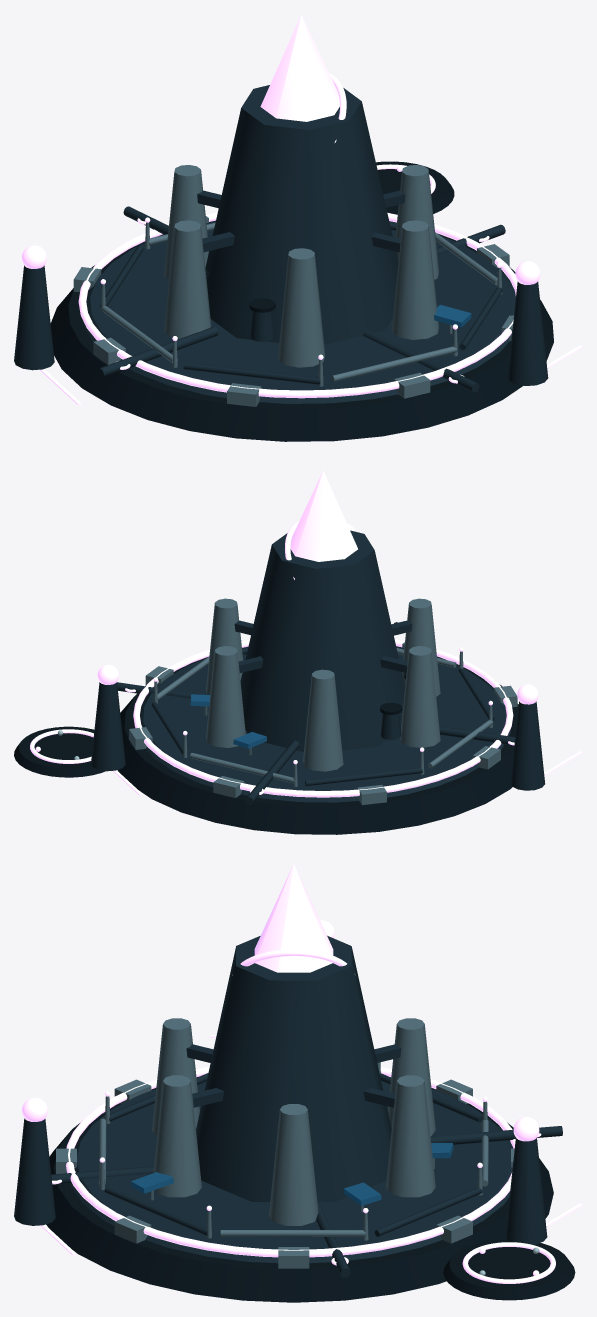
Rendered from naniteFactory-stage2.glb.
3 renders of one model, top to bottom at view 1: azimuth 30°, elevation 25°; view 2: azimuth 150°, elevation 25°; view 3: azimuth 270°, elevation 25°, orthographic. The views are drawn at different scales.
Visible parts, largest first — view 1: assembler-spire, upper-deck, armored-foundation, perimeter-light, nanite-crown, assembler-pylon-1, assembler-pylon-2, assembler-pylon-3, energy-pylon-0, energy-pylon-1, assembler-pylon-4, assembler-pylon-0 (+12 smaller); view 2: assembler-spire, upper-deck, armored-foundation, perimeter-light, nanite-crown, assembler-pylon-4, assembler-pylon-3, assembler-pylon-5, landing-pad, energy-pylon-1, energy-pylon-2, assembler-pylon-2 (+10 smaller); view 3: assembler-spire, upper-deck, armored-foundation, landing-pad, perimeter-light, assembler-pylon-5, assembler-pylon-0, nanite-crown, assembler-pylon-1, energy-pylon-0, energy-pylon-2, assembler-pylon-2 (+14 smaller).
Boxes of the visible parts, box(x1,y1,x2,y2) form: assembler-spire: box(205, 85, 398, 344); upper-deck: box(81, 221, 515, 403); armored-foundation: box(50, 220, 553, 441); perimeter-light: box(78, 212, 517, 398); nanite-crown: box(260, 14, 339, 121); assembler-pylon-1: box(391, 220, 438, 339); assembler-pylon-2: box(277, 248, 325, 367); assembler-pylon-3: box(164, 220, 211, 338); energy-pylon-0: box(507, 281, 548, 385); energy-pylon-1: box(14, 265, 54, 370); assembler-pylon-4: box(164, 165, 208, 279); assembler-pylon-0: box(395, 165, 438, 279); assembler-spire: box(240, 530, 405, 751); upper-deck: box(135, 647, 510, 802); armored-foundation: box(117, 646, 518, 834); perimeter-light: box(133, 639, 513, 797); nanite-crown: box(290, 470, 357, 561); assembler-pylon-4: box(303, 669, 343, 771); assembler-pylon-3: box(400, 646, 440, 747); assembler-pylon-5: box(206, 646, 245, 747); landing-pad: box(14, 726, 105, 777); energy-pylon-1: box(510, 701, 545, 790); energy-pylon-2: box(91, 682, 125, 771); assembler-pylon-2: box(402, 598, 440, 696); assembler-spire: box(196, 935, 391, 1201); upper-deck: box(70, 1081, 513, 1263); armored-foundation: box(46, 1077, 553, 1302); landing-pad: box(443, 1239, 575, 1300); perimeter-light: box(66, 1066, 515, 1257); assembler-pylon-5: box(386, 1075, 435, 1197); assembler-pylon-0: box(269, 1104, 318, 1225); nanite-crown: box(254, 863, 333, 972); assembler-pylon-1: box(153, 1075, 201, 1197); energy-pylon-0: box(14, 1118, 55, 1225); energy-pylon-2: box(505, 1138, 547, 1244); assembler-pylon-2: box(152, 1018, 199, 1136).
Size of the model in its own units: 11.48 by 6.77 by 10.58.
